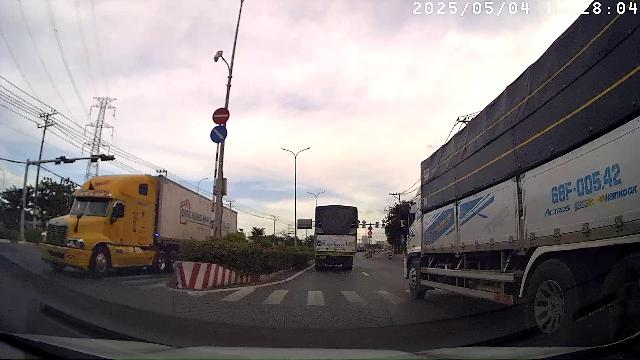102-cam-di-nguoc-chieu: (212, 107, 230, 125)
302a-huong-phai-di-vong-chuong-ngai-vat-1: (209, 125, 228, 143)
